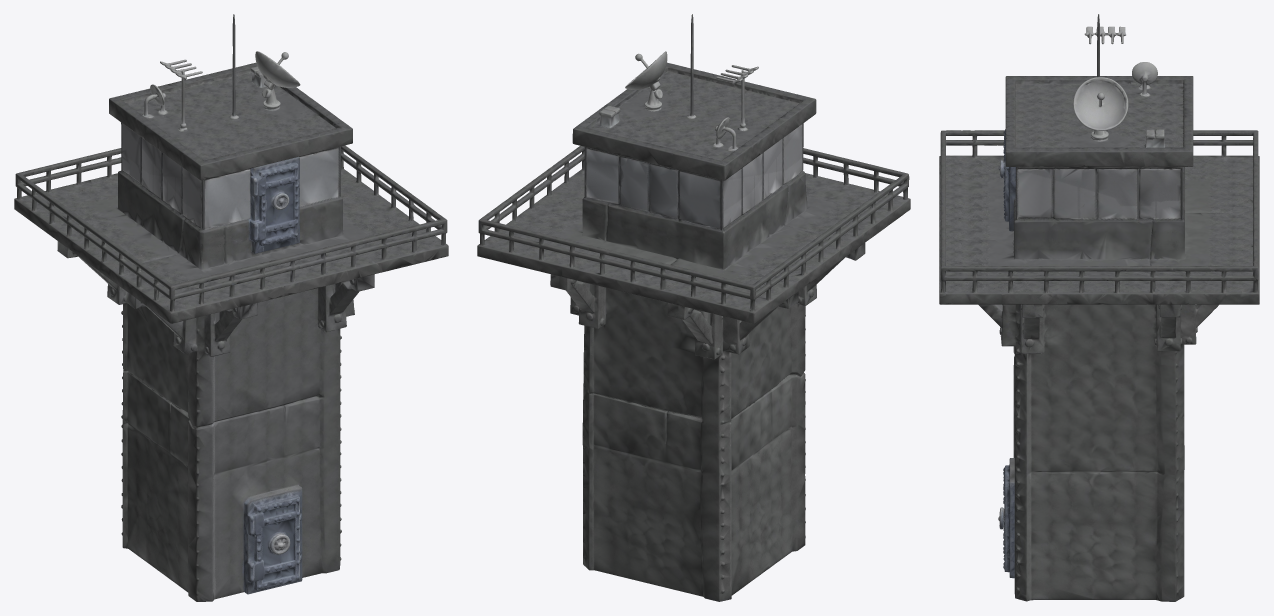
The model's file is gt_concrete.glb.
The picture shows the model from 3 angles, left to right: view 1: azimuth 30°, elevation 25°; view 2: azimuth 150°, elevation 25°; view 3: azimuth 270°, elevation 25°; orthographic projection. The views are drawn at different scales.
Visible parts, largest first — view 1: gt_concrete; view 2: gt_concrete; view 3: gt_concrete.
Boxes of the visible parts, bbox=[...] form: gt_concrete: bbox=[14, 14, 448, 601]; gt_concrete: bbox=[477, 14, 910, 601]; gt_concrete: bbox=[939, 14, 1259, 601].
Bounding box in the file's own units: 1.02 × 1.9 × 0.9999.
1 material, 1 textured.
